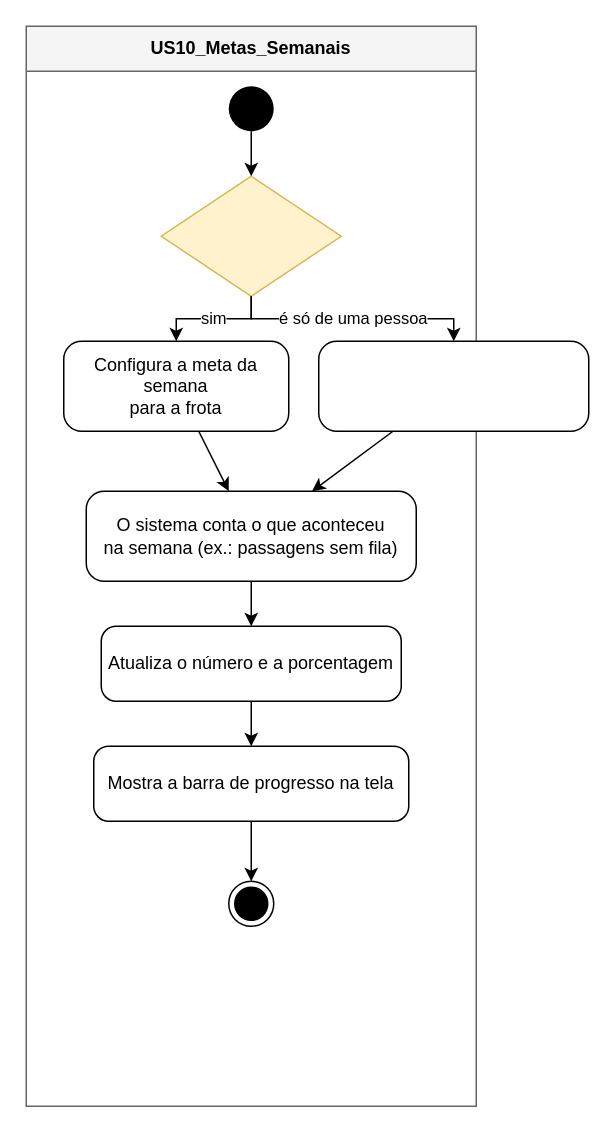
Image size: 615x1133. Some labels were removed from this diagram. The centre of each missing label's shape, as x and y in pixels:
"A meta é da frota inteira?" goes at [250,235].
"Configura a meta da semana para aquele usuário" goes at [453,385].
